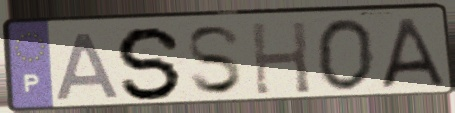A: (53, 29, 125, 103), (378, 16, 448, 92)
H: (248, 19, 314, 97)
O: (313, 17, 378, 94)
S: (114, 24, 186, 103), (184, 23, 247, 98)
